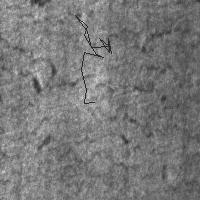crazing: (90, 28, 174, 75), (89, 79, 156, 137), (1, 34, 60, 95), (75, 15, 111, 103)
